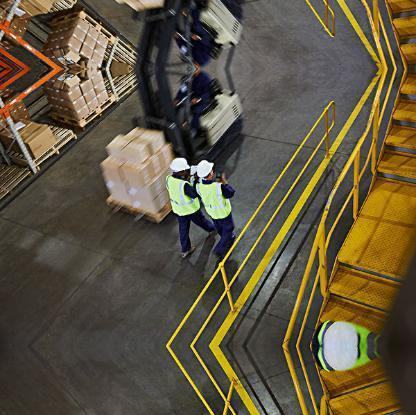helmet: (167, 156, 191, 174), (196, 159, 214, 179)
